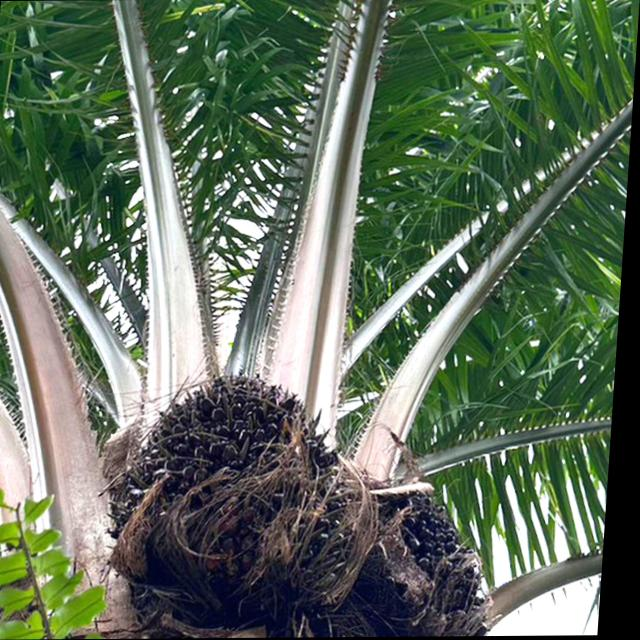almost: (112, 366, 360, 612), (363, 467, 499, 634)
